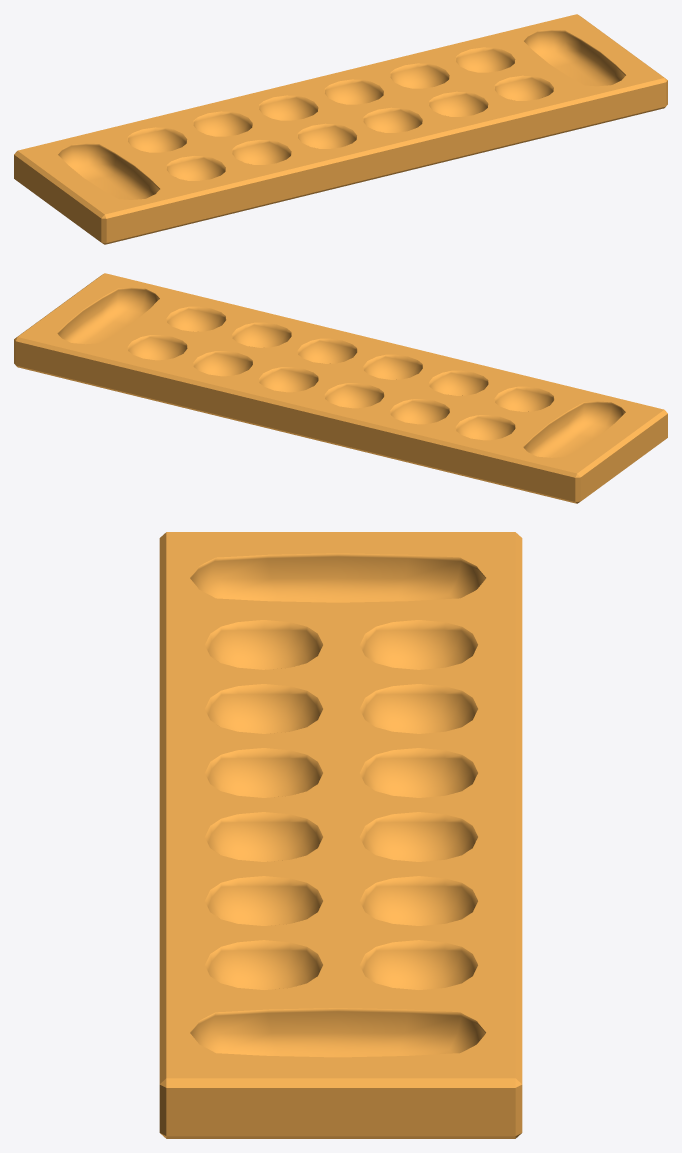
Rendered from mancala.glb.
The picture shows the model from 3 angles, top to bottom: view 1: azimuth 30°, elevation 25°; view 2: azimuth 150°, elevation 25°; view 3: azimuth 270°, elevation 25°; orthographic projection. The views are drawn at different scales.
Visible parts, largest first — view 1: Cube; view 2: Cube; view 3: Cube.
Boxes of the visible parts, bbox=[...] form: Cube: bbox=[14, 14, 667, 244]; Cube: bbox=[14, 273, 667, 503]; Cube: bbox=[159, 532, 522, 1138].
Bounding box in the file's own units: 6.9 × 0.3532 × 1.91.
